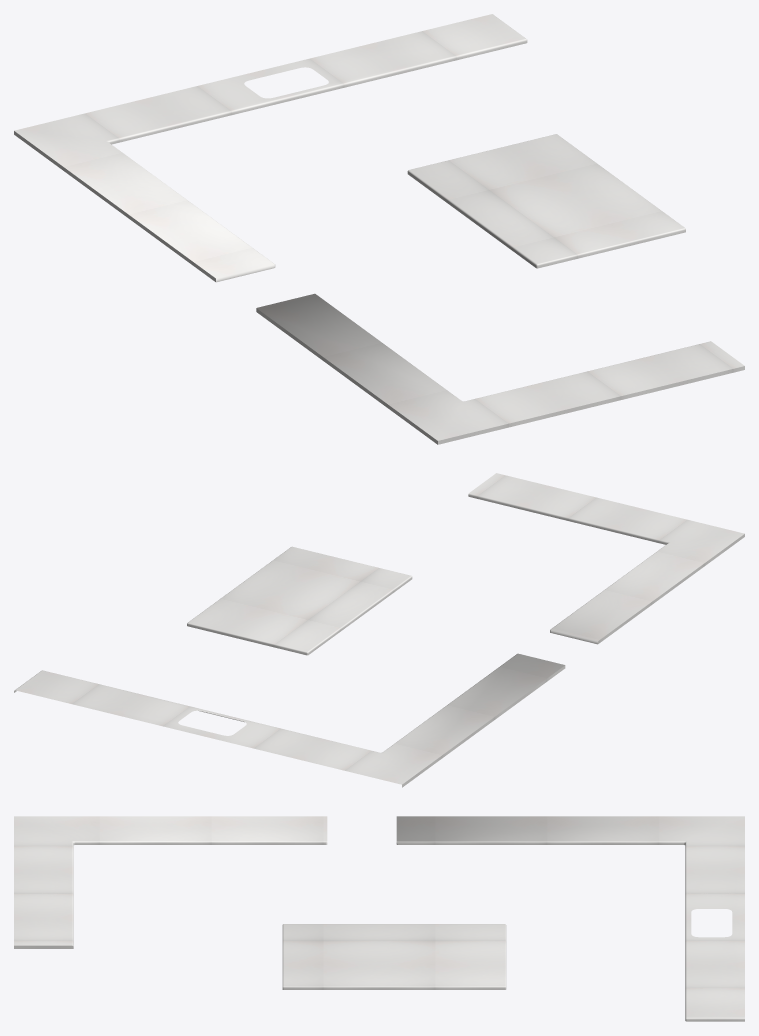
File: 2345_kitchen_Countertops_QuartzArcticWhite.gltf
The picture shows the model from 3 angles, top to bottom: view 1: azimuth 30°, elevation 25°; view 2: azimuth 150°, elevation 25°; view 3: azimuth 270°, elevation 25°; orthographic projection. The views are drawn at different scales.
Visible parts, largest first — view 1: Countertops_Quartz Arctic White; view 2: Countertops_Quartz Arctic White; view 3: Countertops_Quartz Arctic White.
Boxes of the visible parts, x1,y1,x2,y2 form: Countertops_Quartz Arctic White: (14, 14, 744, 444); Countertops_Quartz Arctic White: (14, 473, 744, 787); Countertops_Quartz Arctic White: (14, 816, 744, 1021).
Size of the model in its own units: 6.4 by 0.05 by 9.8.
1 material, 1 textured.
